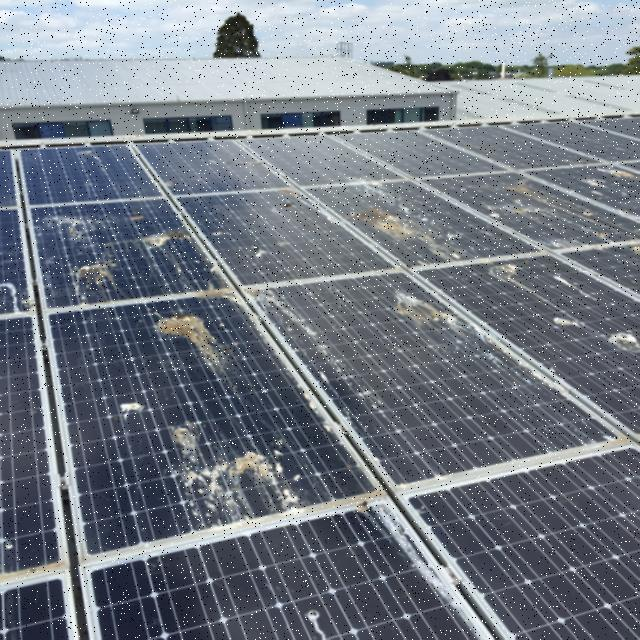bird drop: (429, 255, 634, 429)
electrical damage: (56, 291, 374, 568), (248, 269, 629, 490), (301, 176, 554, 274), (27, 197, 230, 308), (421, 170, 640, 250)
